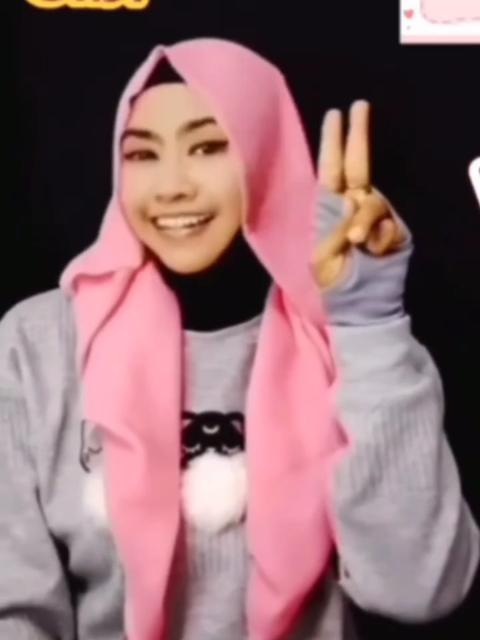U: (300, 94, 422, 316)
